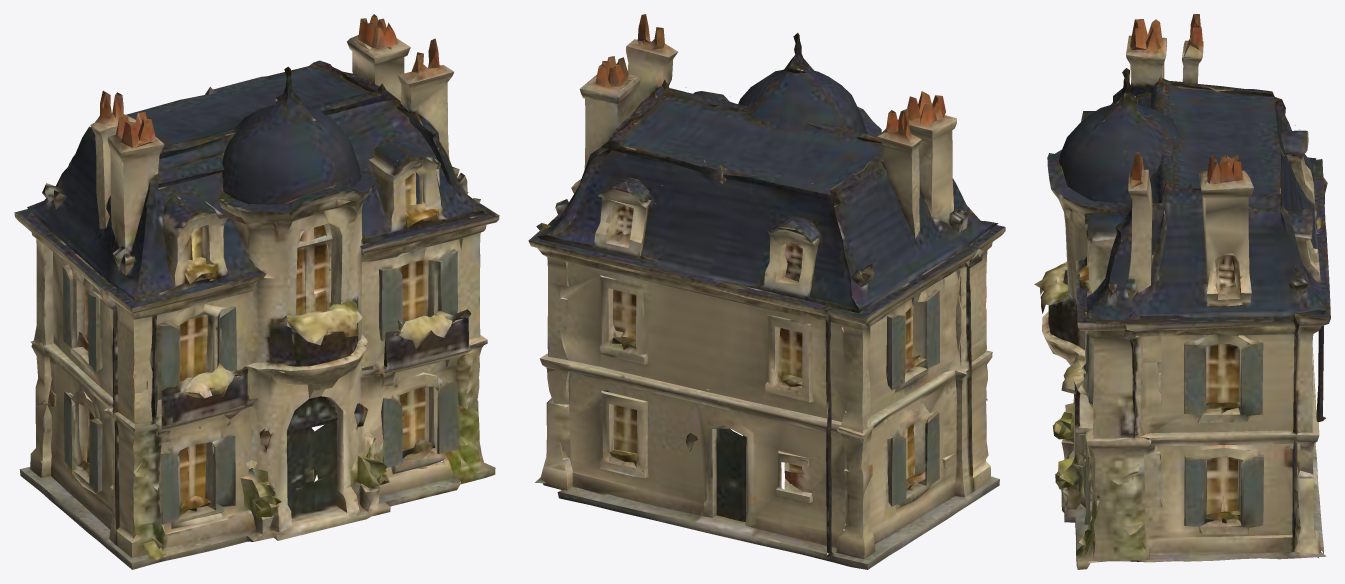
3 views of the same model, side by side, from view 1: azimuth 30°, elevation 25°; view 2: azimuth 150°, elevation 25°; view 3: azimuth 270°, elevation 25° (orthographic). The views are drawn at different scales.
Visible parts, largest first — view 1: classic__tower_2__neural_lod; view 2: classic__tower_2__neural_lod; view 3: classic__tower_2__neural_lod.
Part boxes in pixels (x1=…): classic__tower_2__neural_lod: x1=14, y1=14, x2=499, y2=569; classic__tower_2__neural_lod: x1=528, y1=14, x2=1005, y2=569; classic__tower_2__neural_lod: x1=1034, y1=14, x2=1330, y2=569.
Bounding box in the file's own units: 0.8985 × 0.986 × 0.6265.
1 material, 1 textured.
